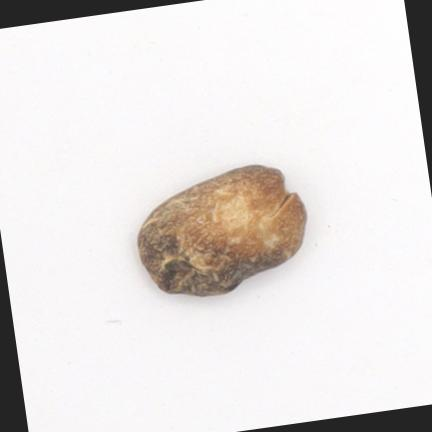partial-black: (139, 164, 306, 295)
